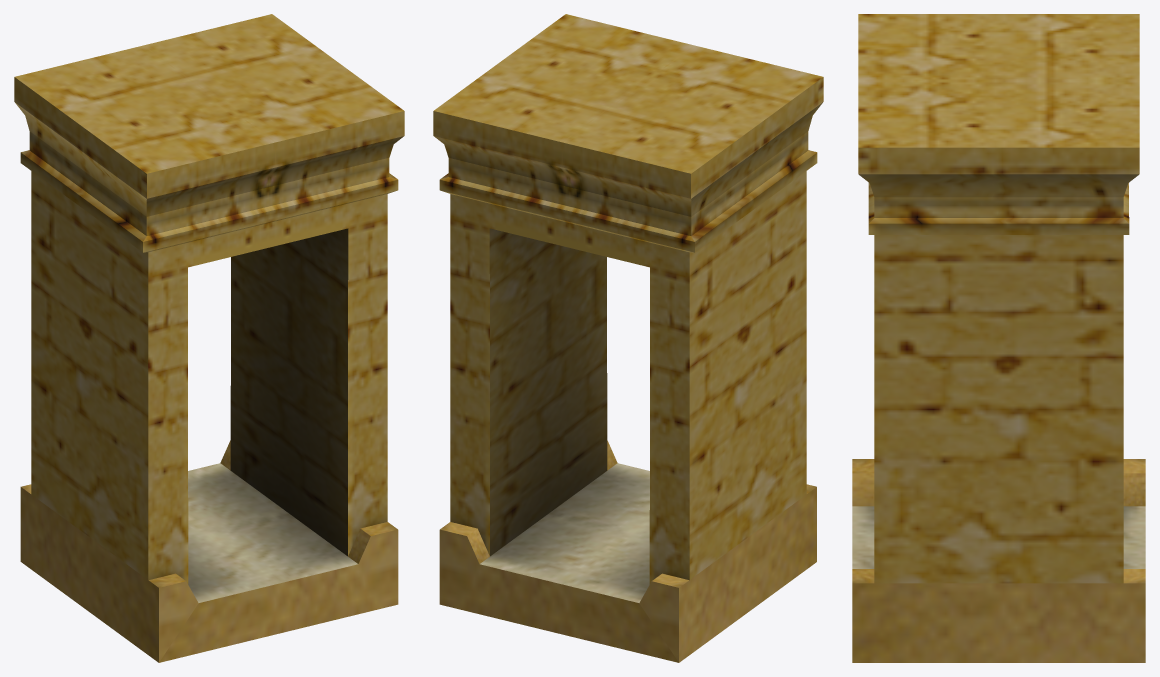
Rendered from egy_tile_door.obj.
The picture shows the model from 3 angles, left to right: view 1: azimuth 30°, elevation 25°; view 2: azimuth 150°, elevation 25°; view 3: azimuth 270°, elevation 25°; orthographic projection. The views are drawn at different scales.
Parts seen in each view (by area): view 1: gate; view 2: gate; view 3: gate.
Boxes of the visible parts, box(x1,y1,x2,y2) form: gate: box(14, 14, 404, 662); gate: box(433, 14, 823, 662); gate: box(852, 14, 1145, 662).
Size of the model in its own units: 1.08 by 1.95 by 1.
1 material, 1 textured.
